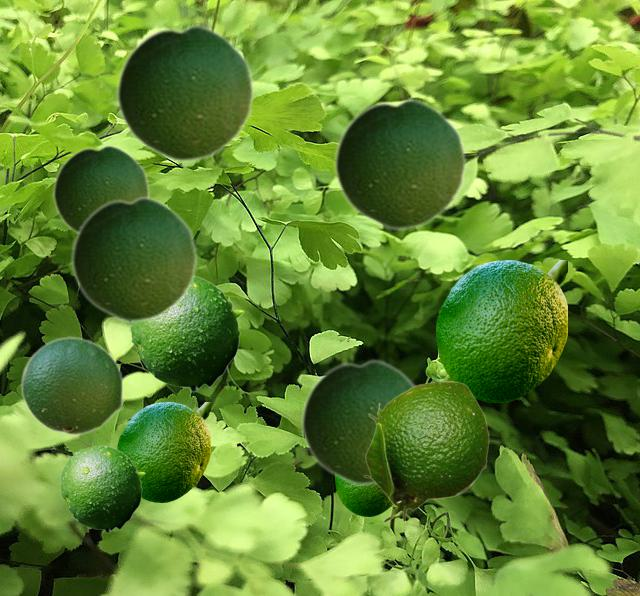dalandan: (115, 22, 254, 163), (436, 260, 566, 401), (333, 96, 466, 231), (363, 381, 488, 522), (70, 194, 197, 323), (300, 357, 416, 486), (130, 276, 243, 391), (20, 336, 123, 435), (117, 402, 209, 501), (52, 143, 149, 233), (60, 445, 144, 532), (335, 478, 392, 515)
